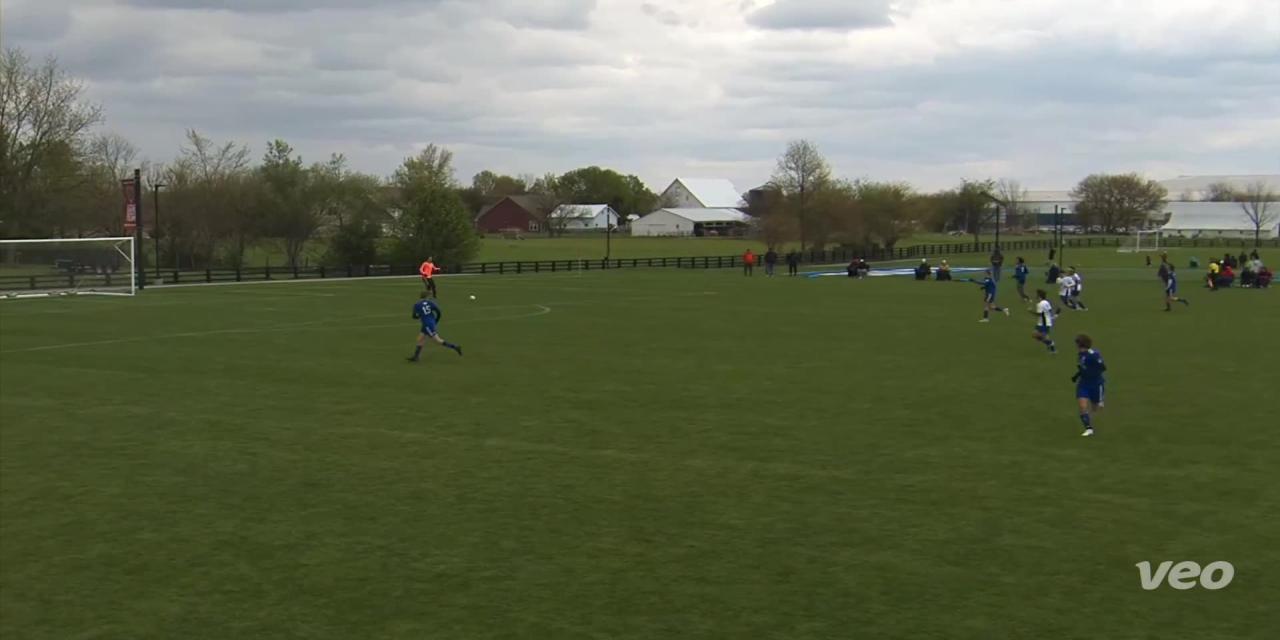goal: (0, 227, 152, 312)
sports ball: (465, 289, 489, 306)
